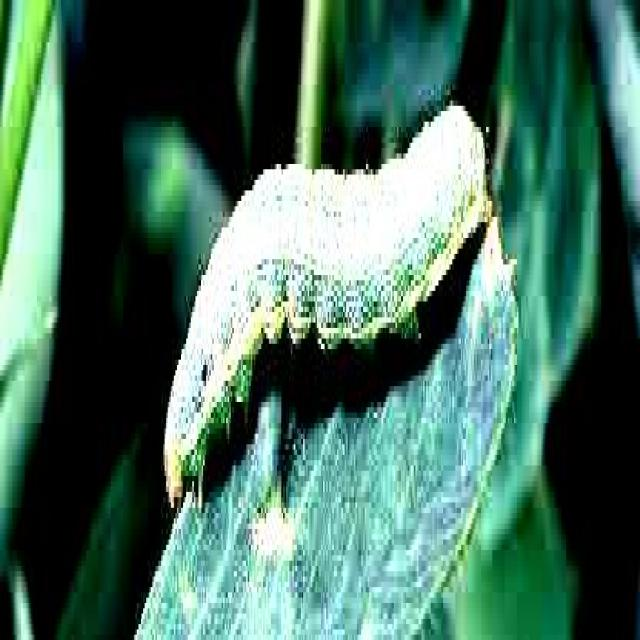armyworm: (162, 95, 492, 513)
